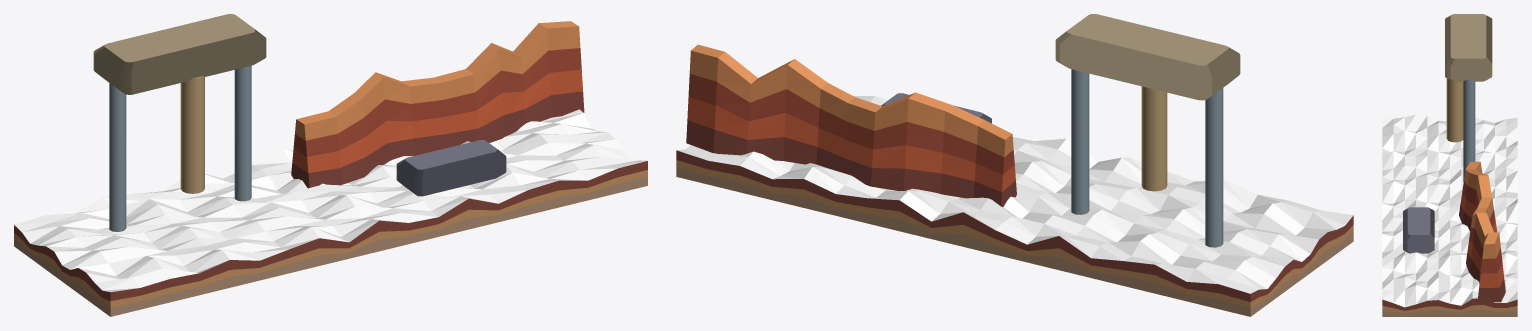
File: insight-taladro.obj
3 renders of one model, left to right at view 1: azimuth 30°, elevation 25°; view 2: azimuth 150°, elevation 25°; view 3: azimuth 270°, elevation 25°, orthographic. The views are drawn at different scales.
Parts seen in each view (by area): view 1: insight-taladro; view 2: insight-taladro; view 3: insight-taladro.
Part boxes in pixels (x1=…): insight-taladro: x1=14, y1=14, x2=647, y2=316; insight-taladro: x1=676, y1=14, x2=1353, y2=316; insight-taladro: x1=1382, y1=14, x2=1517, y2=316.
Size of the model in its own units: 1.65 by 0.5885 by 0.51.
